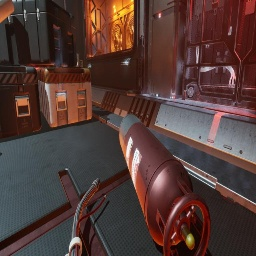0: (0, 0, 14, 24)
EmergencyPhone ,: (80, 58, 83, 67)
NitrogenTank ,: (119, 114, 210, 256)
SafetySwitchPanel ,: (76, 53, 80, 67)
